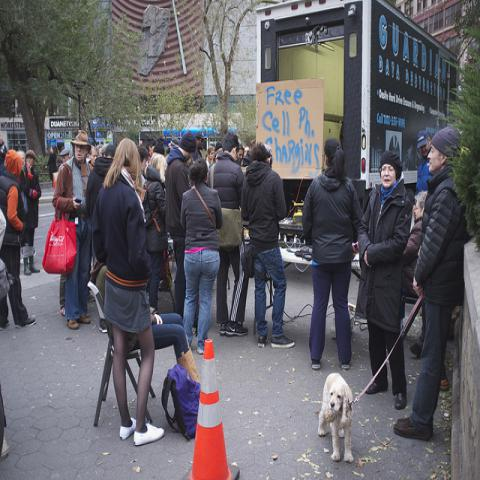truck: (255, 0, 465, 267)
